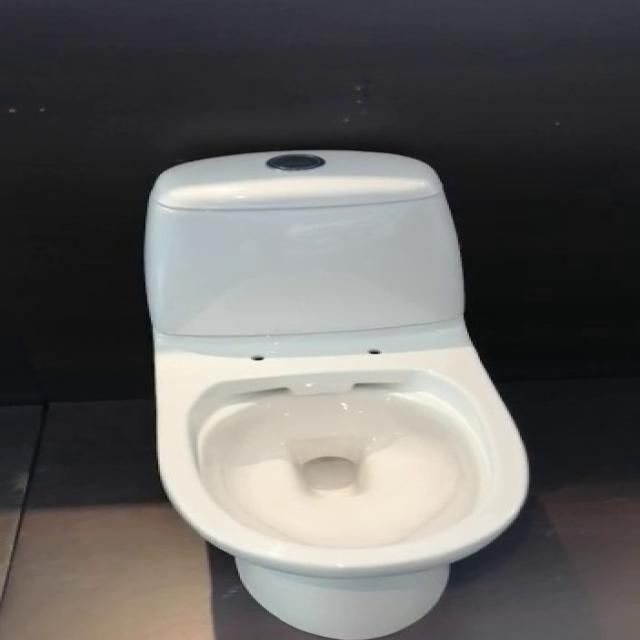toilet: (142, 148, 529, 639)
